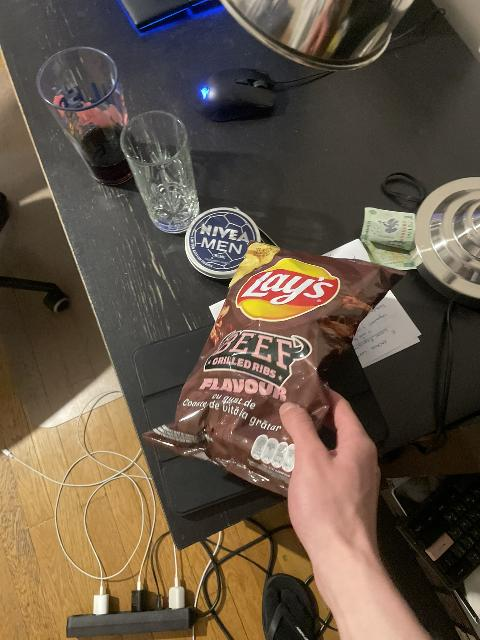Lays Beef Grilled Ribs 125g: (144, 241, 399, 492)
